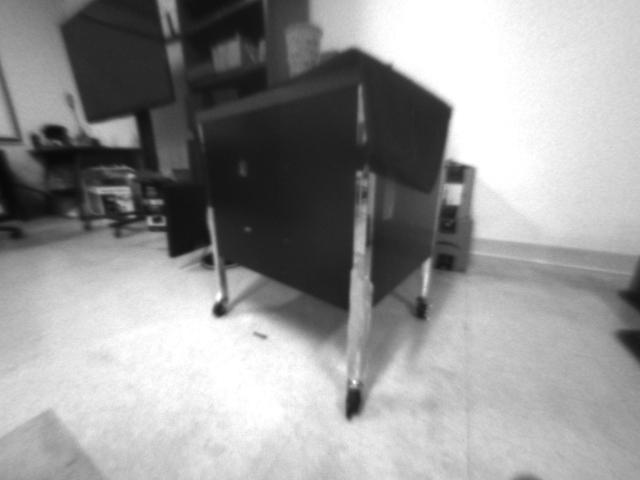coffee_cup: (281, 23, 318, 77)
